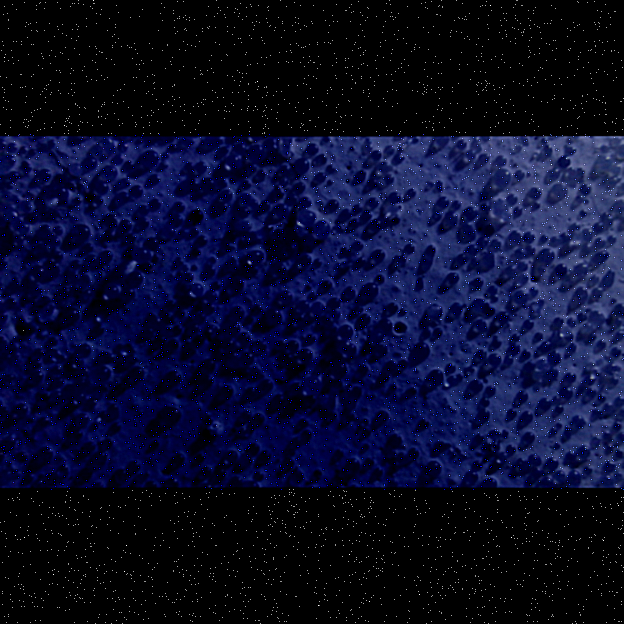GrassBeadSeg: (118, 140, 608, 469), (69, 161, 541, 463), (54, 144, 480, 470), (7, 146, 603, 377), (122, 186, 558, 467), (15, 171, 427, 460), (263, 137, 614, 468), (63, 138, 488, 404), (27, 167, 525, 394), (7, 141, 530, 357), (107, 176, 556, 427), (76, 161, 501, 423), (103, 163, 572, 396), (137, 215, 589, 456), (22, 209, 485, 442), (104, 249, 590, 456), (99, 145, 552, 362), (184, 177, 577, 426), (169, 213, 531, 462), (149, 186, 545, 407), (93, 200, 491, 406), (119, 220, 441, 474), (74, 239, 565, 401), (39, 167, 534, 327), (21, 163, 335, 414), (130, 183, 414, 458), (46, 159, 485, 333), (210, 237, 516, 479), (102, 180, 501, 365), (103, 200, 398, 448), (188, 216, 596, 395), (86, 178, 500, 354), (214, 286, 587, 477), (74, 195, 474, 372), (318, 160, 584, 425), (294, 181, 561, 445), (141, 148, 529, 329), (73, 198, 586, 333), (121, 247, 517, 417), (251, 207, 517, 452), (189, 270, 533, 442), (185, 139, 416, 394), (165, 215, 546, 369), (46, 167, 285, 405), (103, 212, 455, 373), (196, 170, 520, 344), (71, 205, 307, 439), (371, 207, 584, 465), (129, 160, 539, 294), (39, 223, 576, 324), (379, 228, 597, 476), (125, 192, 396, 391), (51, 205, 363, 375), (283, 259, 528, 468), (350, 144, 564, 369), (288, 148, 476, 394), (58, 251, 481, 358), (78, 342, 535, 441), (221, 177, 482, 349), (133, 245, 344, 456), (48, 163, 290, 345), (200, 224, 374, 476), (114, 194, 311, 414), (395, 160, 563, 412), (145, 223, 355, 422), (247, 247, 484, 419), (202, 318, 570, 427), (95, 180, 399, 311), (30, 221, 573, 294), (83, 155, 535, 242), (78, 179, 444, 285), (30, 254, 366, 369), (221, 185, 487, 329), (127, 295, 341, 470), (74, 222, 325, 369), (384, 185, 538, 419), (335, 205, 477, 457), (83, 164, 207, 452), (281, 194, 449, 405), (46, 360, 397, 459), (253, 217, 383, 480), (38, 319, 281, 459), (428, 136, 614, 318), (73, 193, 339, 320), (236, 336, 565, 438), (45, 358, 549, 424), (51, 145, 350, 253), (58, 160, 206, 374), (58, 228, 522, 296), (148, 172, 259, 453), (190, 143, 395, 294), (201, 158, 564, 243), (2, 154, 99, 462), (351, 230, 529, 397), (158, 261, 317, 446), (173, 247, 386, 383), (53, 358, 526, 419), (53, 249, 311, 360), (321, 278, 574, 391), (61, 185, 479, 253), (14, 298, 605, 346), (104, 282, 390, 380), (19, 148, 470, 209), (65, 231, 207, 424), (457, 251, 585, 463), (86, 228, 237, 406), (127, 269, 264, 462), (333, 262, 540, 389), (78, 234, 338, 335), (85, 205, 522, 265), (174, 241, 415, 349), (38, 359, 408, 425), (282, 301, 528, 400), (34, 255, 285, 348), (1, 386, 251, 475), (151, 164, 250, 387), (282, 183, 591, 254), (34, 275, 510, 321), (93, 263, 280, 380), (360, 179, 461, 390), (216, 177, 548, 241), (225, 194, 311, 441), (30, 323, 505, 367), (352, 154, 569, 249), (261, 305, 393, 460), (317, 152, 541, 242), (148, 187, 416, 259), (197, 156, 389, 255), (248, 143, 331, 367), (358, 239, 520, 353), (171, 276, 484, 335), (1, 268, 88, 477), (47, 348, 243, 439), (151, 179, 216, 446), (495, 167, 576, 380), (127, 276, 273, 390), (239, 185, 308, 426), (133, 317, 392, 381), (12, 169, 352, 217), (483, 335, 591, 485), (34, 337, 146, 480), (198, 374, 361, 471), (72, 331, 543, 364), (374, 148, 429, 427), (20, 160, 401, 200), (93, 142, 319, 209), (219, 296, 370, 396), (239, 178, 381, 283), (287, 246, 430, 350), (369, 135, 584, 201), (422, 327, 605, 403), (0, 285, 190, 358), (89, 323, 198, 450), (191, 202, 288, 344), (407, 291, 538, 395), (259, 154, 506, 209), (206, 143, 275, 335), (10, 152, 489, 179), (15, 269, 77, 475), (418, 275, 623, 336), (20, 145, 334, 184), (203, 180, 305, 300), (447, 181, 566, 281), (109, 421, 350, 470), (117, 190, 586, 215), (7, 137, 195, 199), (162, 340, 241, 487), (372, 151, 459, 281), (337, 340, 522, 401), (185, 160, 372, 220), (123, 159, 205, 294), (298, 214, 373, 359), (438, 145, 585, 217), (239, 299, 326, 419), (472, 144, 610, 218), (163, 134, 271, 228), (489, 236, 593, 332), (77, 200, 220, 267), (297, 172, 394, 265), (225, 153, 263, 389), (331, 363, 490, 418), (3, 309, 108, 389), (224, 179, 362, 239), (290, 363, 369, 466), (94, 170, 326, 205), (70, 248, 184, 319), (194, 350, 265, 461), (489, 324, 618, 385), (485, 230, 608, 293), (202, 252, 548, 274), (559, 156, 601, 337), (220, 200, 281, 323), (100, 250, 205, 321), (252, 386, 366, 450), (250, 288, 293, 453), (440, 186, 570, 240), (214, 287, 354, 337), (238, 205, 311, 300), (488, 206, 516, 452), (173, 143, 214, 311), (56, 187, 198, 234), (541, 273, 621, 356), (361, 426, 522, 466), (35, 366, 88, 485), (241, 134, 330, 202), (290, 256, 322, 445), (190, 245, 555, 261), (7, 342, 122, 391), (134, 337, 176, 470), (56, 136, 113, 234), (129, 327, 230, 379), (543, 144, 602, 230), (5, 265, 104, 316), (121, 326, 153, 478), (434, 205, 471, 335), (31, 172, 76, 277), (228, 284, 356, 320), (300, 218, 407, 261), (399, 310, 458, 386), (491, 428, 574, 482), (178, 195, 284, 237), (376, 378, 483, 419), (517, 142, 589, 202), (160, 270, 188, 422), (82, 240, 436, 252), (471, 139, 495, 316), (164, 368, 445, 383), (307, 275, 481, 299), (15, 402, 251, 419), (388, 352, 430, 446), (470, 449, 576, 486), (201, 357, 501, 370), (35, 346, 65, 472), (494, 327, 622, 356), (428, 167, 622, 186), (548, 355, 623, 404), (466, 441, 560, 480), (457, 293, 499, 380), (92, 323, 347, 337), (7, 225, 51, 306), (225, 165, 237, 460), (101, 136, 146, 212), (92, 372, 233, 396), (335, 340, 430, 375), (240, 168, 294, 229), (237, 468, 392, 488), (353, 152, 404, 212), (398, 368, 437, 445), (414, 331, 437, 457), (297, 252, 313, 427), (497, 243, 588, 273), (304, 442, 369, 484), (228, 276, 350, 298), (154, 172, 300, 190), (31, 370, 81, 422), (173, 196, 372, 209), (191, 267, 313, 288), (121, 268, 208, 297), (555, 262, 597, 322), (350, 214, 402, 262), (470, 284, 498, 372), (237, 304, 366, 323), (514, 271, 593, 302), (0, 139, 24, 239), (211, 187, 232, 299), (177, 329, 285, 350), (500, 427, 572, 458), (243, 143, 284, 197), (375, 266, 522, 281), (1, 404, 28, 482), (551, 213, 614, 245), (126, 313, 167, 362), (447, 442, 492, 486), (282, 322, 327, 363), (550, 166, 578, 230), (47, 138, 175, 152), (210, 339, 266, 370), (464, 301, 511, 337), (285, 285, 307, 361), (258, 466, 384, 479), (64, 420, 96, 471), (53, 389, 109, 418), (507, 182, 588, 202), (370, 195, 513, 206), (143, 233, 188, 267), (451, 365, 489, 405), (552, 394, 621, 416), (82, 264, 110, 316), (529, 360, 594, 382), (364, 456, 482, 468), (377, 307, 407, 353), (356, 310, 388, 353), (581, 227, 611, 272), (108, 176, 132, 230), (196, 233, 220, 287), (375, 159, 395, 223), (4, 391, 62, 413), (160, 415, 185, 463), (425, 301, 495, 318), (592, 317, 616, 366), (566, 144, 604, 174), (11, 272, 78, 289), (119, 176, 213, 188), (234, 141, 266, 176), (94, 450, 128, 480), (404, 439, 447, 462), (287, 192, 316, 226), (433, 208, 473, 232), (17, 220, 60, 242), (497, 349, 561, 363), (500, 465, 559, 480), (461, 221, 481, 264), (139, 203, 159, 246), (224, 282, 240, 335), (148, 234, 171, 268), (361, 281, 379, 323), (592, 401, 619, 429), (246, 255, 286, 273), (521, 396, 551, 420), (0, 255, 21, 288), (145, 225, 176, 246), (247, 194, 266, 228), (586, 232, 616, 253), (526, 237, 561, 254), (5, 207, 29, 231), (504, 253, 524, 281), (581, 308, 603, 333), (471, 236, 489, 266), (598, 152, 622, 174), (331, 303, 363, 319), (594, 212, 609, 246), (180, 262, 197, 292), (517, 332, 530, 371), (550, 424, 572, 447), (389, 451, 403, 486), (541, 468, 565, 488), (583, 465, 609, 483), (83, 382, 125, 393), (608, 450, 622, 482), (590, 368, 613, 387), (602, 420, 622, 439), (492, 332, 517, 347), (493, 456, 527, 466), (321, 307, 341, 324), (590, 435, 613, 449), (589, 272, 603, 295), (479, 223, 494, 244), (587, 332, 596, 367), (152, 311, 172, 326), (13, 211, 39, 222), (95, 409, 109, 429), (492, 440, 508, 457), (156, 318, 166, 345), (474, 293, 494, 306), (515, 245, 536, 257), (568, 468, 587, 480), (24, 471, 39, 486), (77, 369, 89, 387), (582, 239, 600, 251), (51, 225, 62, 244), (606, 443, 623, 454), (20, 146, 38, 156), (615, 317, 623, 336), (545, 456, 558, 467), (356, 167, 367, 178), (81, 272, 90, 283), (3, 352, 12, 362)
